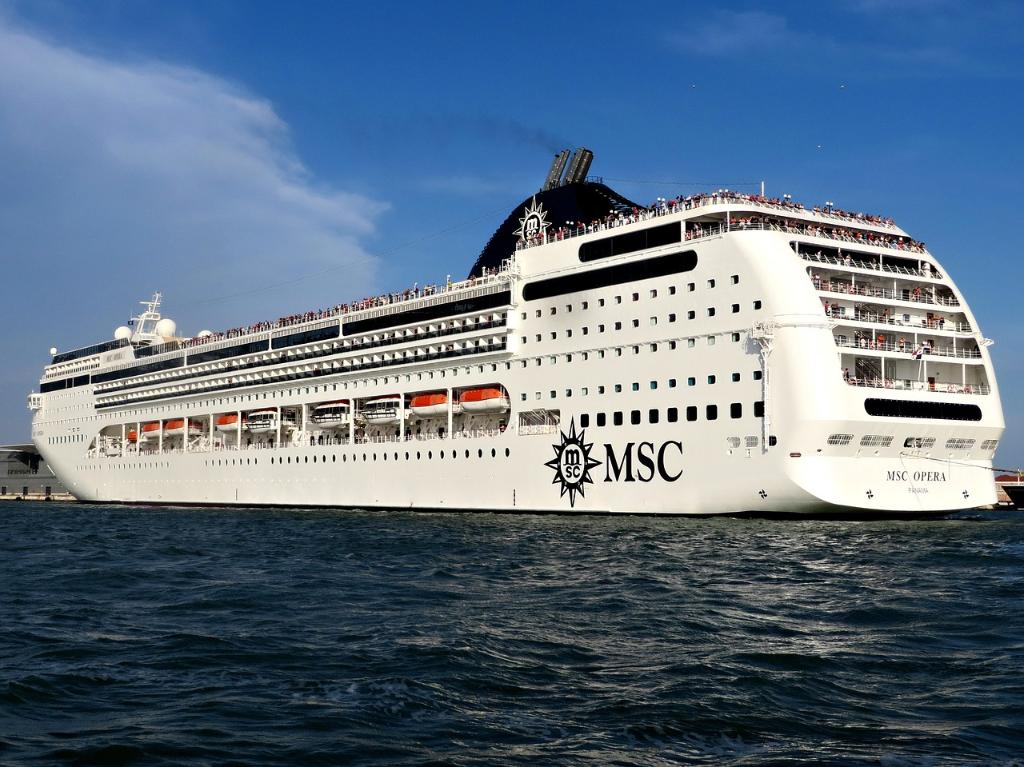PassengerShip: (19, 145, 1017, 507)
